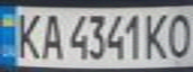1: (121, 10, 145, 60)
3: (84, 11, 109, 61)
4: (63, 10, 90, 61), (106, 10, 127, 61)
A: (36, 10, 66, 61)
K: (9, 9, 45, 61), (142, 9, 172, 61)
O: (163, 9, 193, 60)
